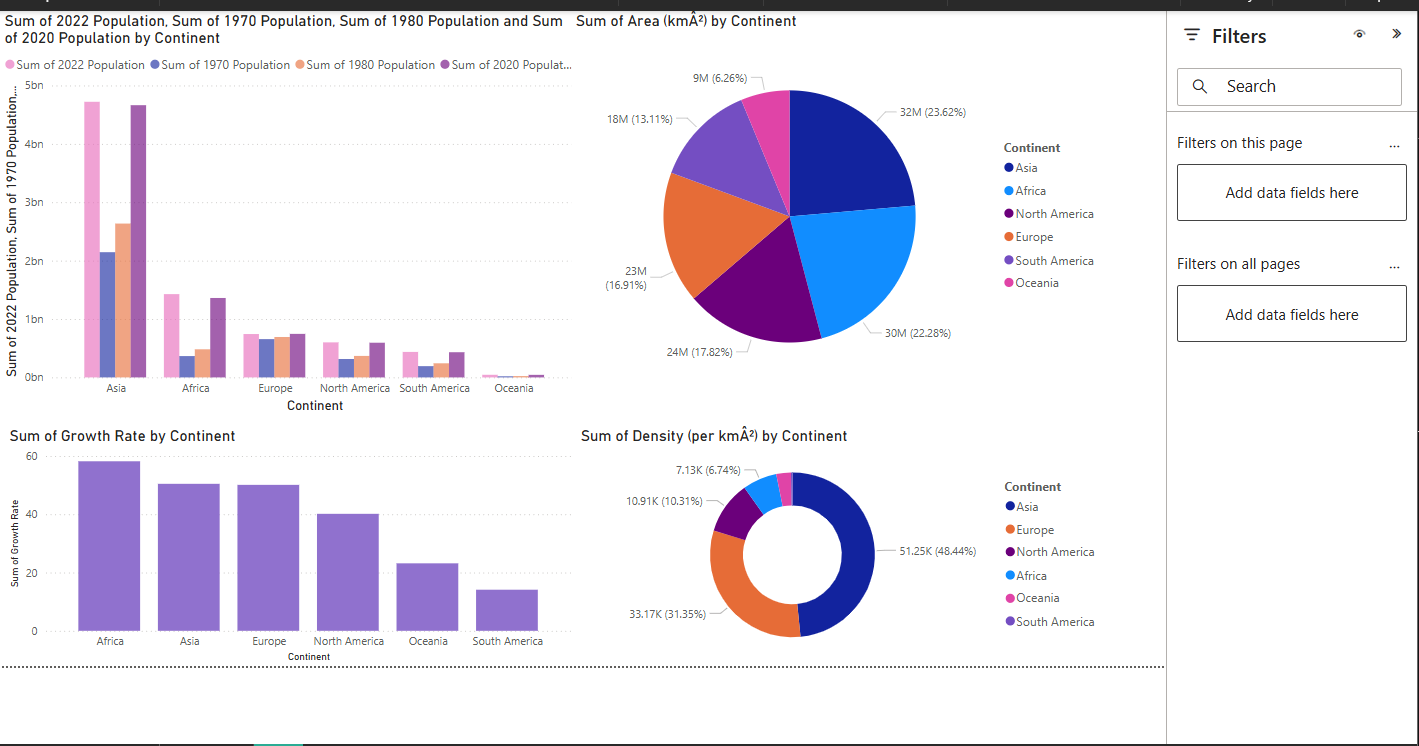

This screenshot's page, from the dashboard's own definition file:
{"tool":"powerbi","page":{"name":"Page 1","canvas":[1280,720],"ordinal":0},"visuals":[{"type":"clusteredColumnChart","fields":{"Category":["world_population.Continent"],"Y":["Sum(world_population.2022 Population)","Sum(world_population.1980 Population)"]},"box":[9.6,0,572.2,414.4],"z":0},{"type":"pieChart","fields":{"Category":["world_population.Continent"],"Y":["Sum(world_population.Area (kmÂ²))"]},"box":[581.8,0,675.1,385.6],"z":1},{"type":"clusteredColumnChart","fields":{"Category":["world_population.Continent"],"Y":["Sum(world_population.Growth Rate)"]},"box":[5.5,455.6,576.3,264.8],"z":2},{"type":"donutChart","fields":{"Category":["world_population.Continent"],"Y":["Sum(world_population.Density (per kmÂ²))"]},"box":[639.5,396.6,617.5,314.2],"z":3}]}

Visuals, with their boxes in screenshot pixels (x1, y1, x2, y2):
clusteredColumnChart - world_population.Continent x Sum(world_population.2022 Population): crop(135, 7, 720, 431)
pieChart - world_population.Continent x Sum(world_population.Area (kmÂ²)): crop(720, 7, 1411, 402)
clusteredColumnChart - world_population.Continent x Sum(world_population.Growth Rate): crop(131, 473, 720, 744)
donutChart - world_population.Continent x Sum(world_population.Density (per kmÂ²)): crop(779, 413, 1411, 734)
